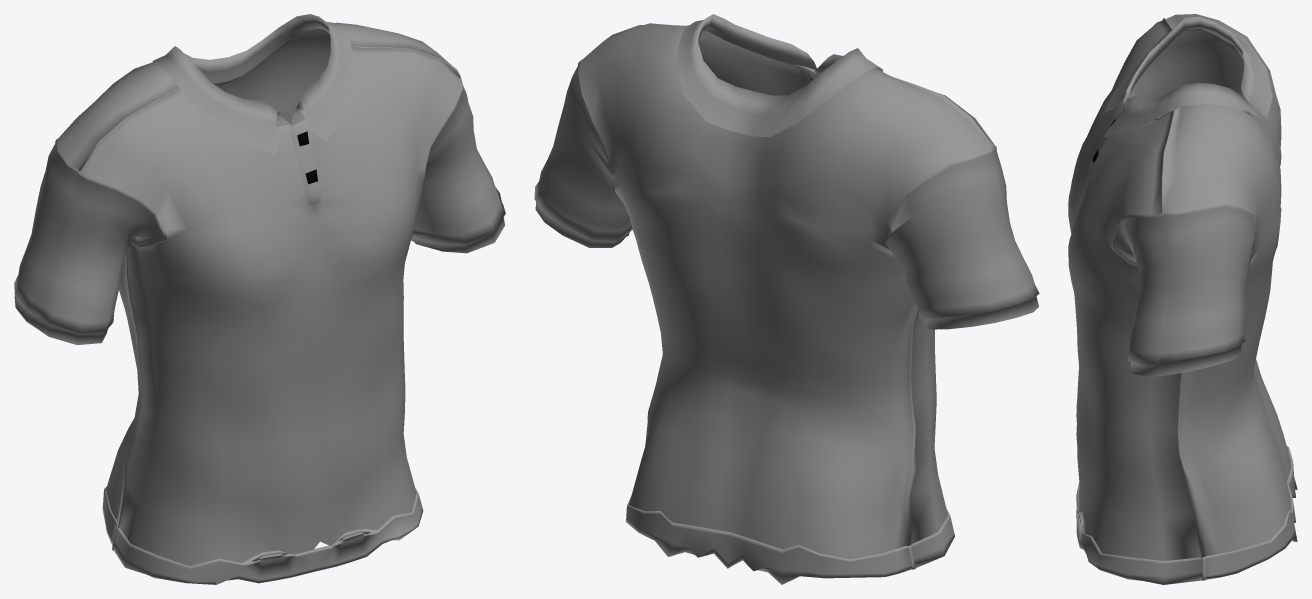
The model's file is namuhekam-male-polo-shirt.glb.
The picture shows the model from 3 angles, left to right: view 1: azimuth 30°, elevation 25°; view 2: azimuth 150°, elevation 25°; view 3: azimuth 270°, elevation 25°; orthographic projection. The views are drawn at different scales.
Parts seen in each view (by area): view 1: Human.namuhekam_male_polo_shirt; view 2: Human.namuhekam_male_polo_shirt; view 3: Human.namuhekam_male_polo_shirt.
Boxes of the visible parts, x1=… form: Human.namuhekam_male_polo_shirt: x1=14, y1=14, x2=505, y2=584; Human.namuhekam_male_polo_shirt: x1=534, y1=14, x2=1039, y2=584; Human.namuhekam_male_polo_shirt: x1=1068, y1=14, x2=1297, y2=584.
Size of the model in its own units: 0.6573 by 0.6537 by 0.2869.
Materials: 1 (1 with a texture image).
